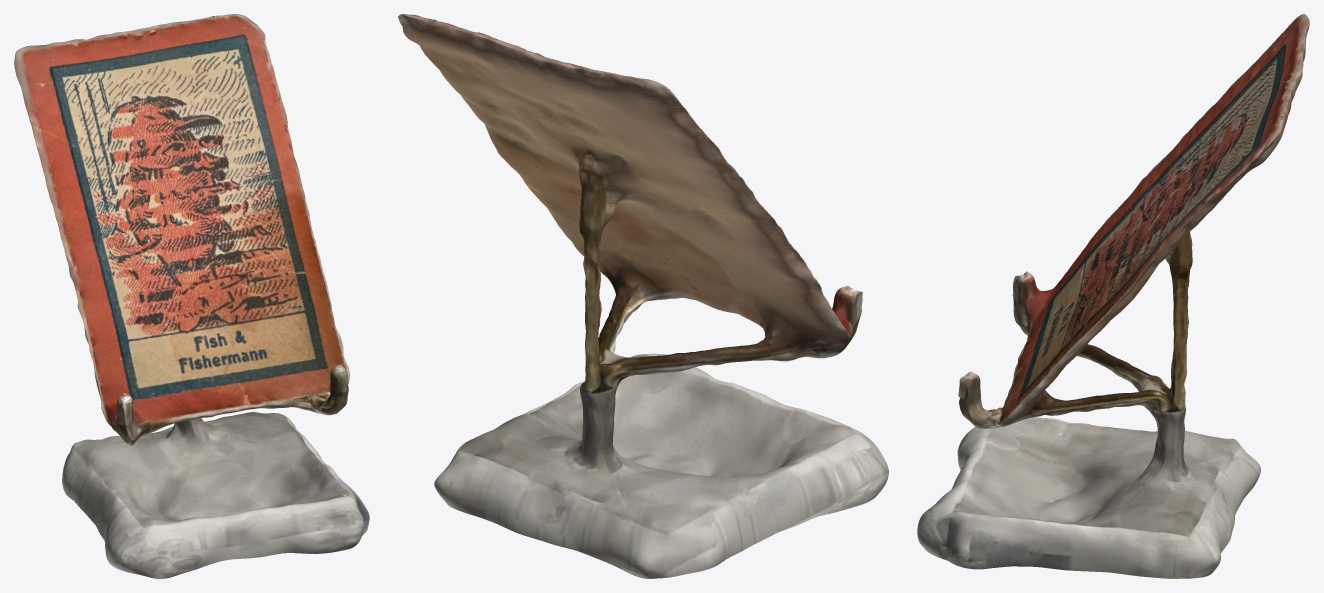
The model's file is victorian-cards.glb.
The picture shows the model from 3 angles, left to right: view 1: azimuth 30°, elevation 25°; view 2: azimuth 150°, elevation 25°; view 3: azimuth 270°, elevation 25°; orthographic projection. The views are drawn at different scales.
Parts seen in each view (by area): view 1: 3DModel_Custom; view 2: 3DModel_Custom; view 3: 3DModel_Custom.
Boxes of the visible parts, left/top/right/bottom form: 3DModel_Custom: left=14, top=14, right=369, bottom=578; 3DModel_Custom: left=398, top=14, right=888, bottom=578; 3DModel_Custom: left=917, top=14, right=1309, bottom=578.
Size of the model in its own units: 0.452 by 0.6702 by 0.5283.
Materials: 1 (1 with a texture image).
